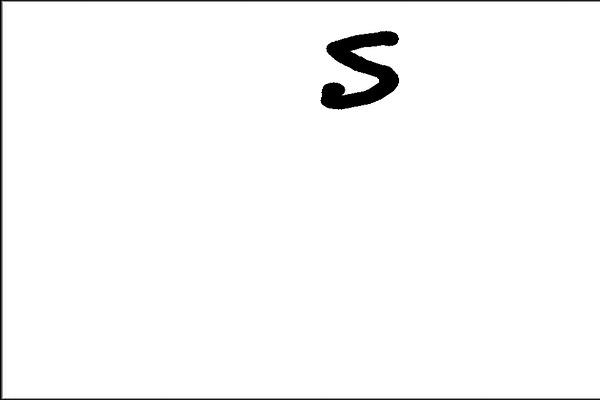S: (313, 22, 410, 120)
